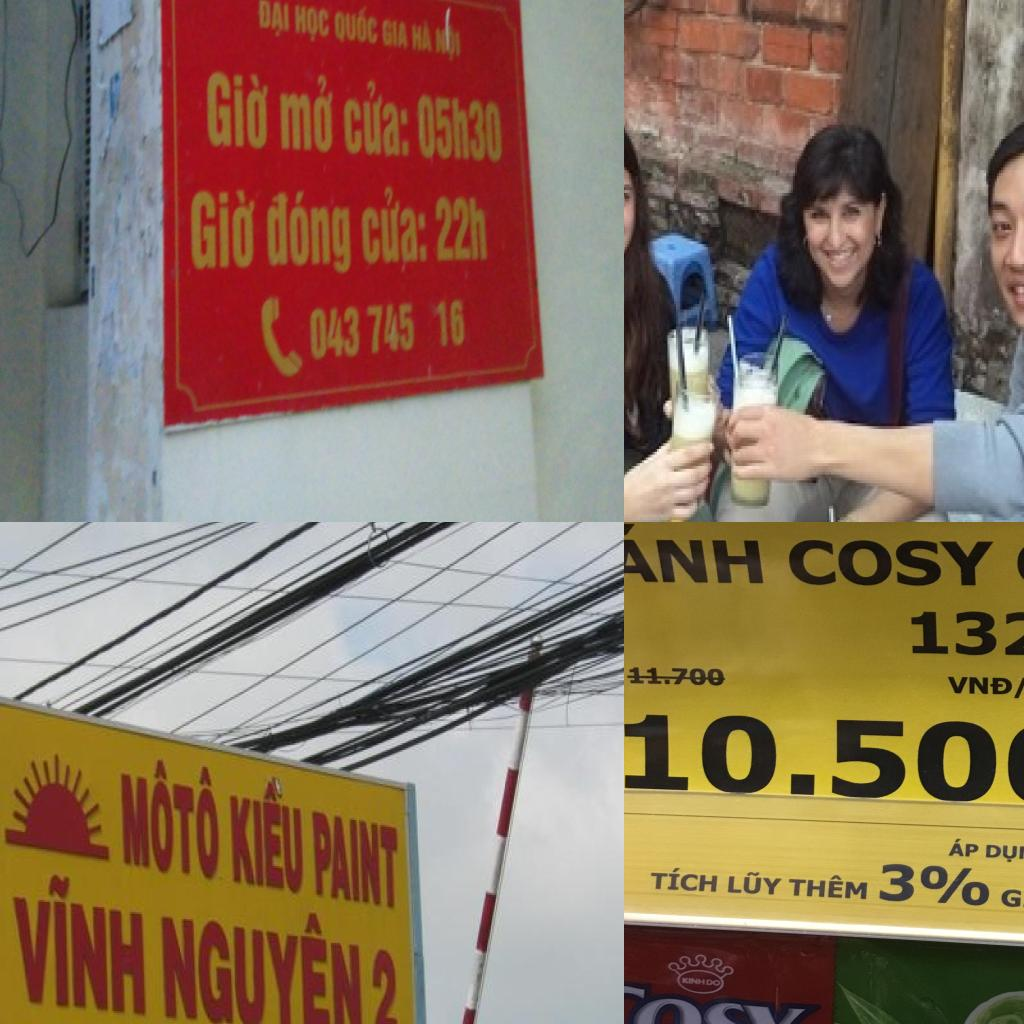text: (624, 711, 1024, 808), (162, 891, 363, 1024), (11, 870, 148, 1016), (121, 757, 222, 885), (784, 538, 998, 588), (227, 770, 307, 897), (310, 810, 402, 910), (624, 522, 766, 585), (624, 978, 811, 1024), (267, 190, 350, 276), (417, 94, 503, 165), (309, 303, 414, 361), (877, 860, 1000, 908), (908, 609, 1024, 659), (189, 190, 255, 270), (206, 70, 270, 150), (361, 189, 428, 265), (344, 81, 410, 157), (278, 76, 336, 154), (434, 198, 488, 262), (369, 946, 401, 1024), (786, 872, 870, 900), (944, 674, 1024, 701), (648, 866, 720, 894), (334, 4, 378, 49), (726, 868, 785, 896), (294, 4, 329, 46), (256, 0, 290, 40), (435, 21, 460, 63), (382, 16, 408, 50), (984, 843, 1024, 864), (411, 18, 434, 53), (998, 882, 1024, 910), (946, 838, 981, 858), (680, 976, 706, 986), (704, 978, 722, 987)
